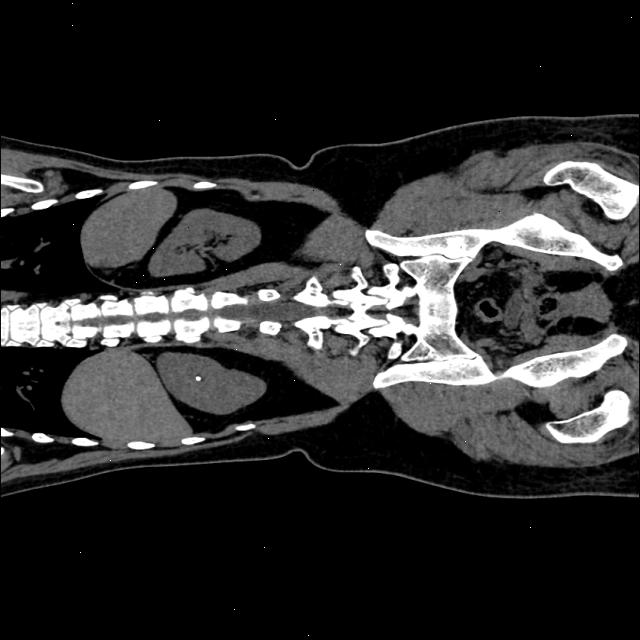kidneystone: (194, 375, 202, 381)
